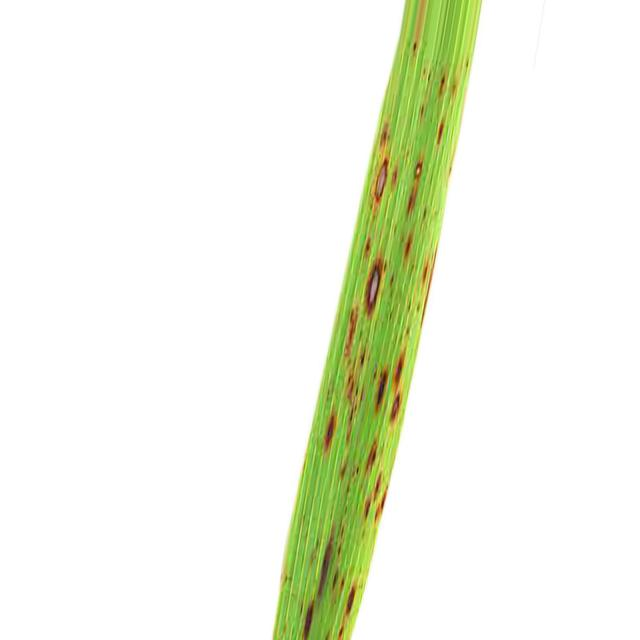Brown_Spot: (318, 525, 335, 599), (365, 260, 382, 316), (390, 341, 406, 393), (408, 161, 422, 214), (389, 389, 409, 424), (344, 309, 358, 356), (322, 410, 336, 453), (376, 365, 388, 411), (302, 600, 315, 639), (365, 438, 379, 474), (378, 156, 389, 198), (402, 228, 414, 261), (346, 582, 358, 613), (380, 115, 390, 151), (375, 474, 389, 498), (415, 99, 428, 120), (411, 30, 421, 54), (391, 159, 399, 189), (438, 68, 446, 96), (436, 122, 445, 145), (361, 495, 371, 514), (348, 374, 355, 401), (339, 456, 348, 477), (451, 76, 459, 96), (420, 204, 428, 219), (390, 271, 395, 283)
